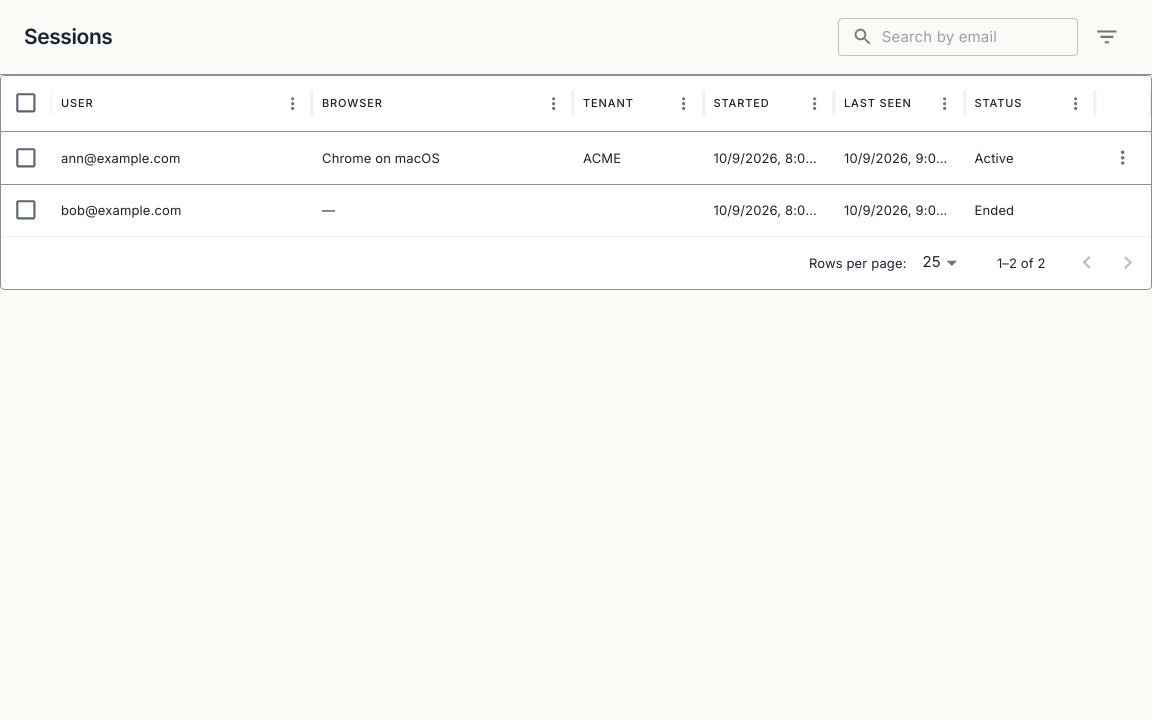
Test: SessionsPage (I0009) › revokes the selected sessions after one confirmation naming the count (R008)
Expected: the text "ann@example.com" is shown, [61,150,180,166]
Expected: the button "Revoke selected" is not shown
Click the checkbox named "select row" at {"x": 26, "y": 158}, box [13,145,39,171]
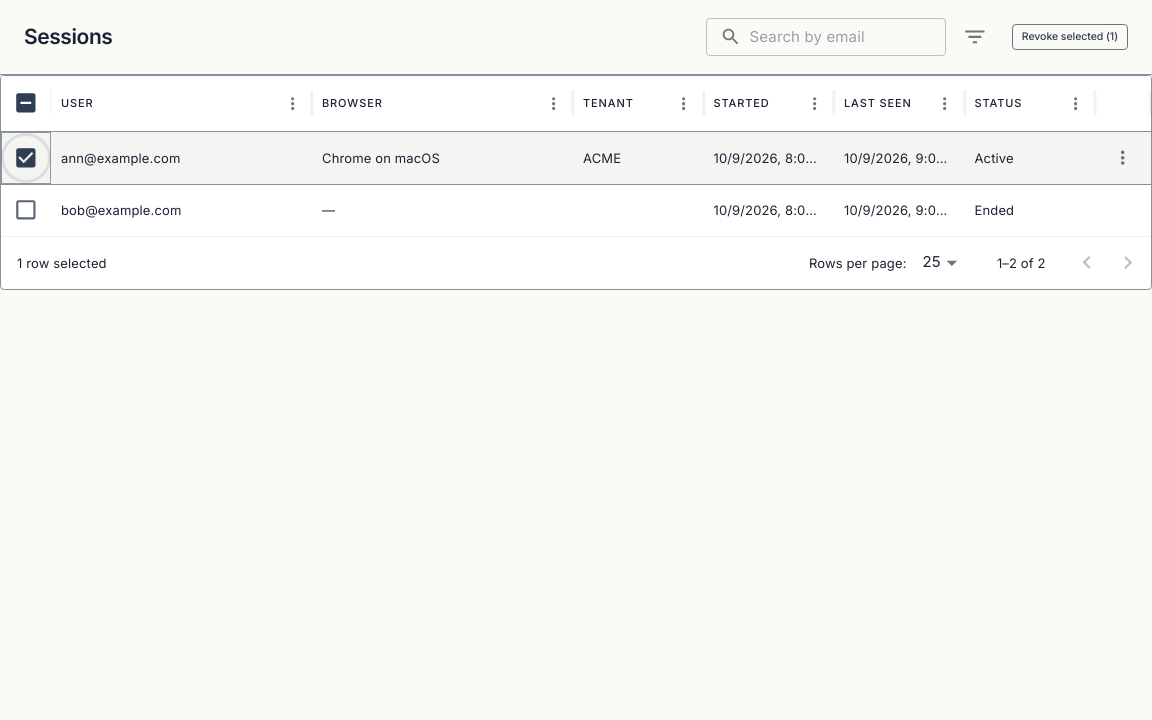
Click the checkbox named "select row" at {"x": 26, "y": 210}, box [13,197,39,223]
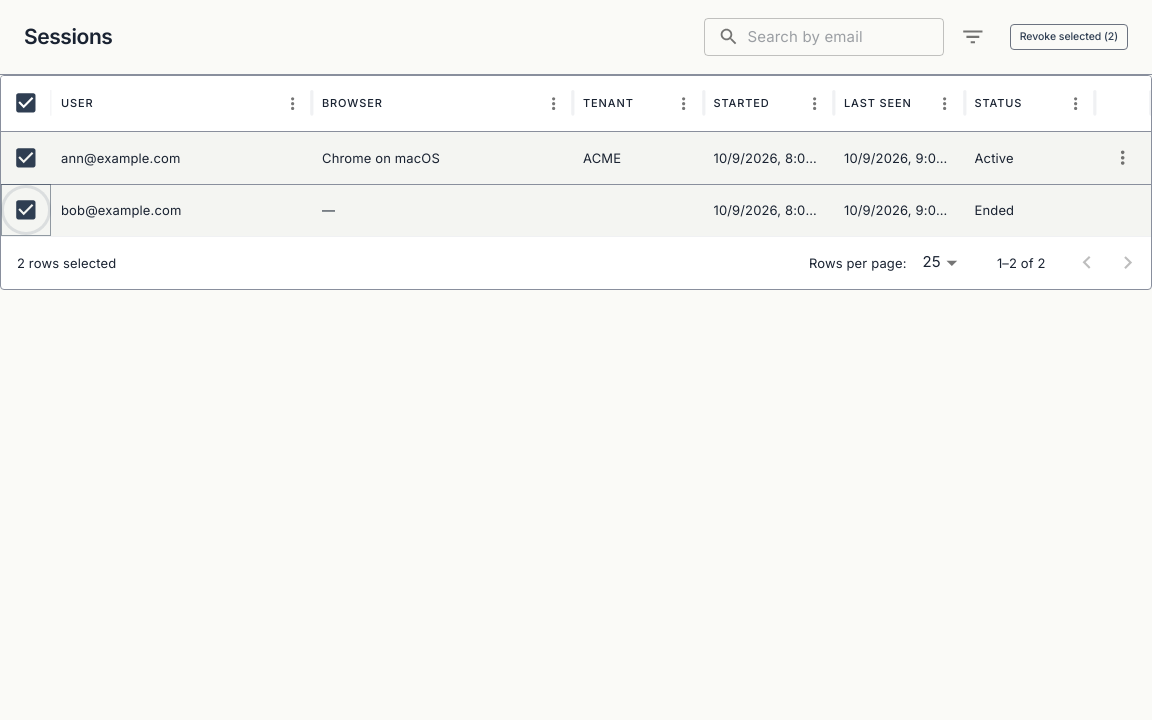
Click the button "Revoke selected (2)" at {"x": 1069, "y": 37}, box [1010,24,1128,50]
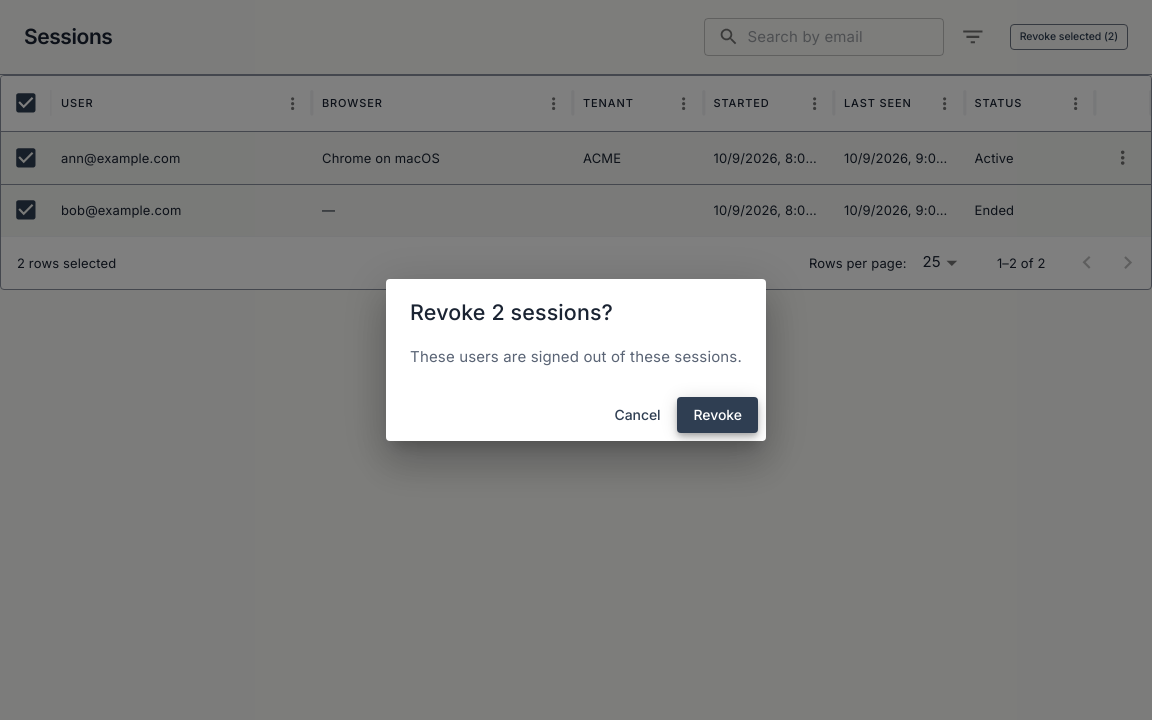
Expected: the text "These users are signed out of these sessions." is shown, [410,345,742,369]
Click the button "Revoke" at {"x": 718, "y": 415}, box [678,396,758,433]
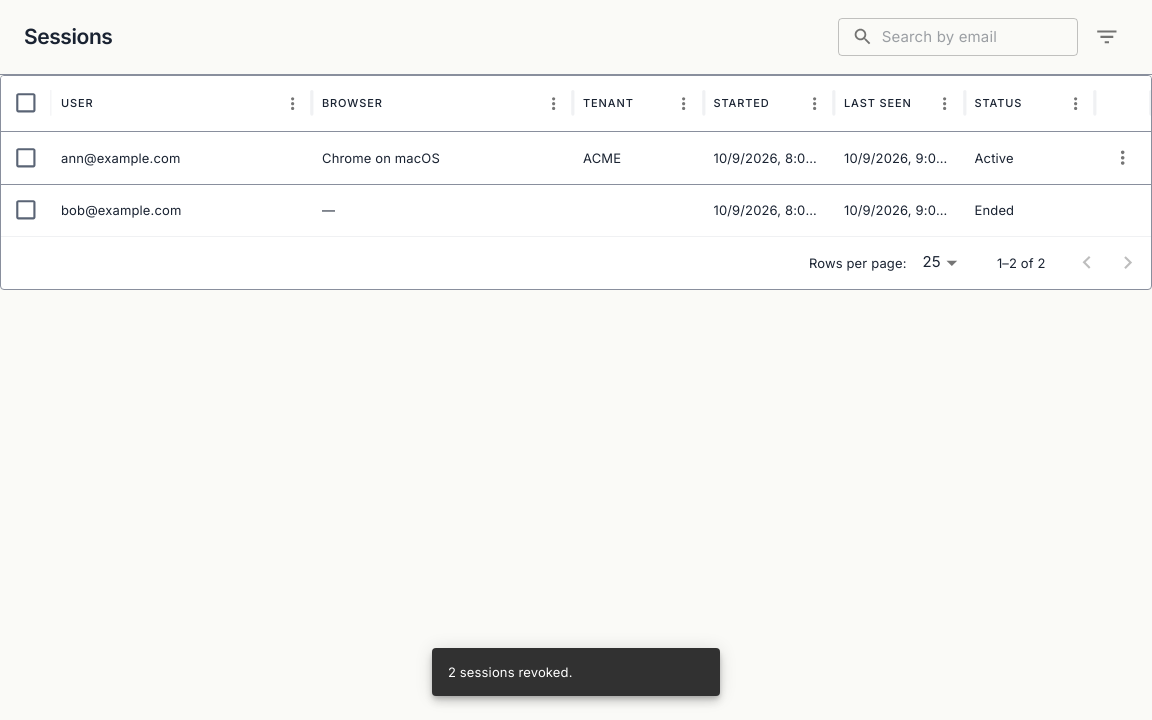
Expected: the text "2 sessions revoked." is shown, [448,664,572,680]
